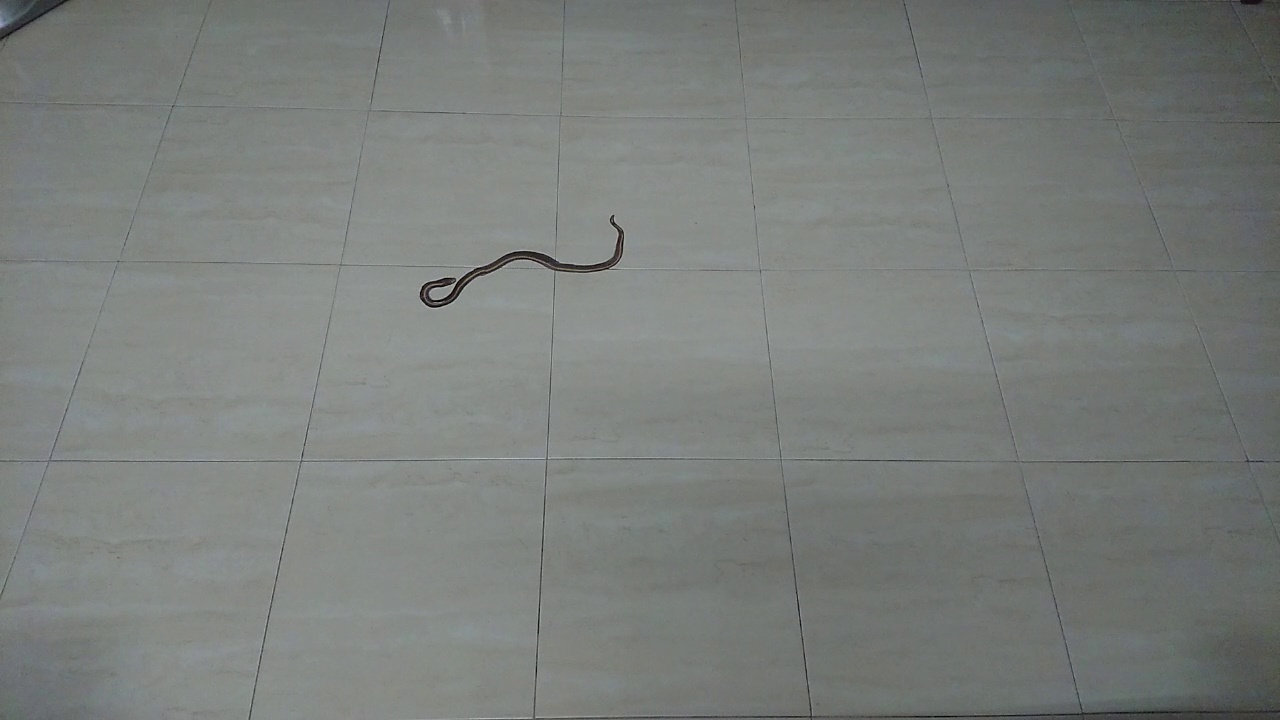snake: (412, 206, 634, 323)
